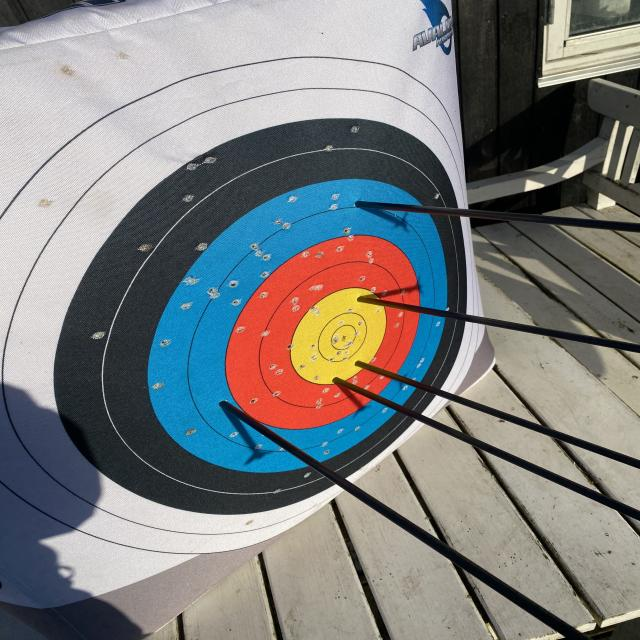Arrow_Blue: (184, 386, 270, 420), (342, 191, 379, 219)
Arrow_Red: (347, 355, 384, 373)
Arrow_Yellow: (327, 372, 364, 398), (355, 291, 386, 319)
